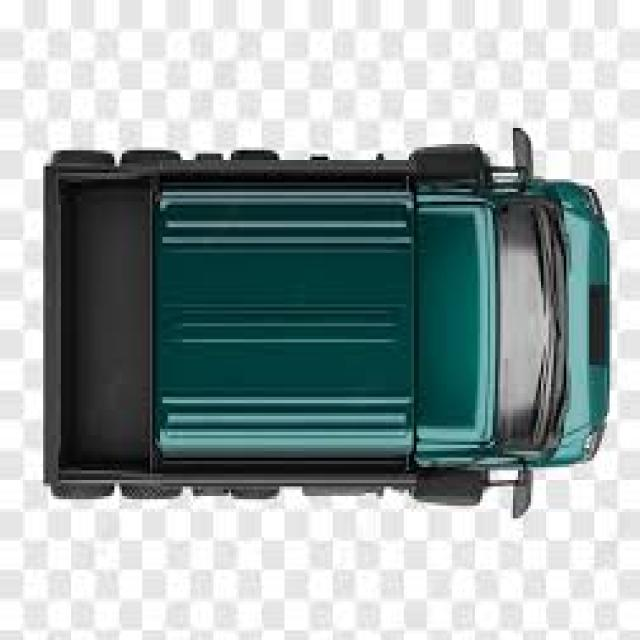truck: (36, 136, 606, 502)
